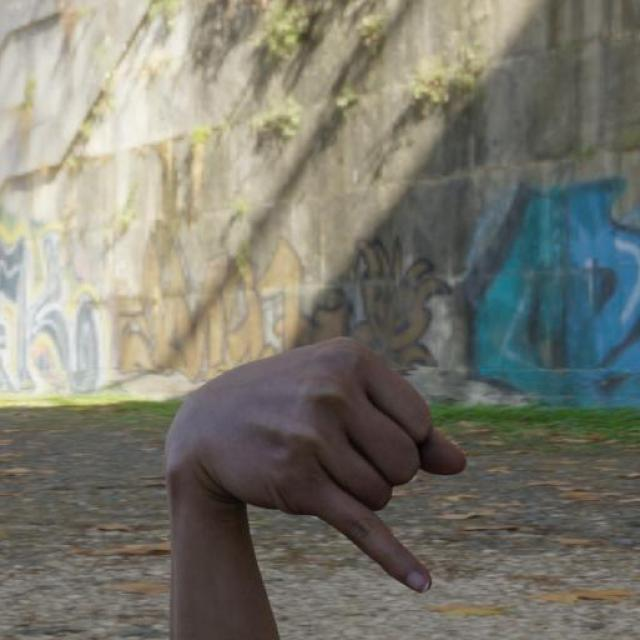J: (160, 326, 469, 608)
